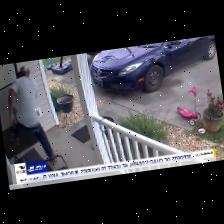person: (7, 67, 52, 157)
